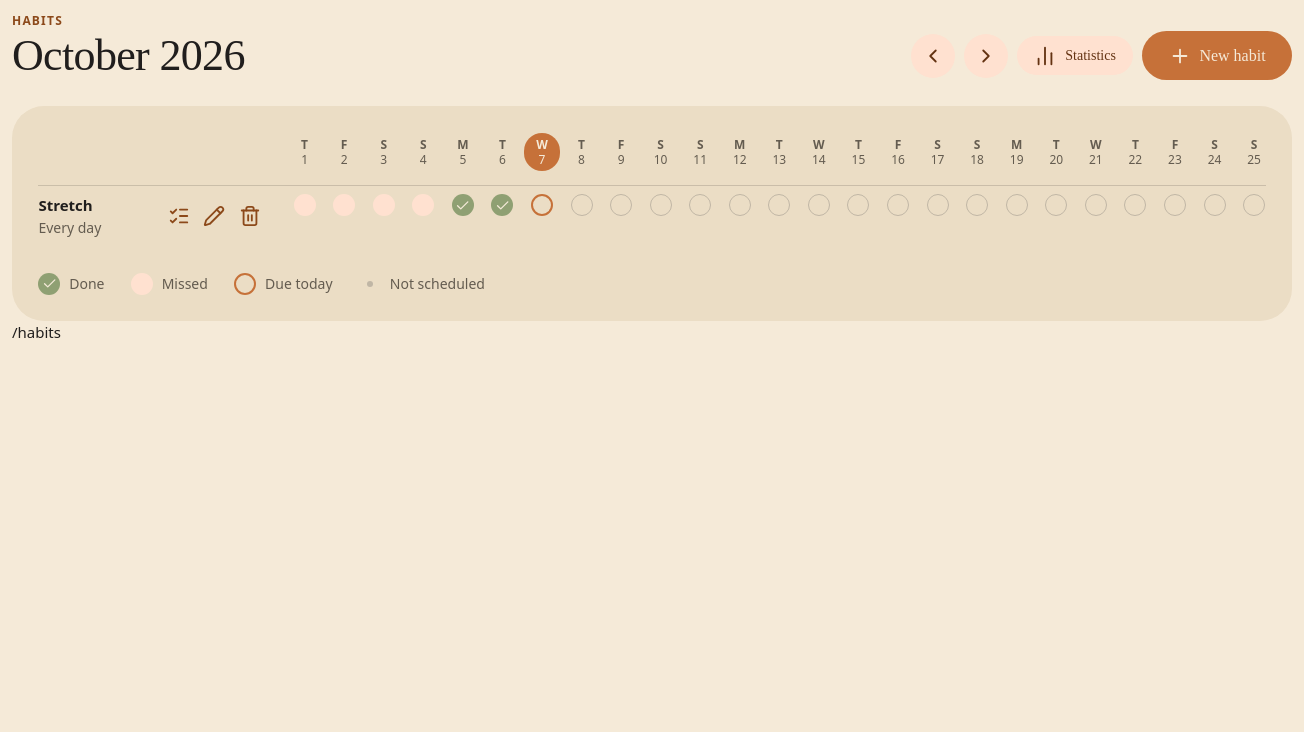
Test case: ticking a day › puts a refused day back even when the screen cannot ask the server what is true, and keeps the grid
Expected: the table is shown, [38,133,1266,246]
Click the button named "Stretch, Wed 7 Oct" at (542, 205), box [531,194,553,216]
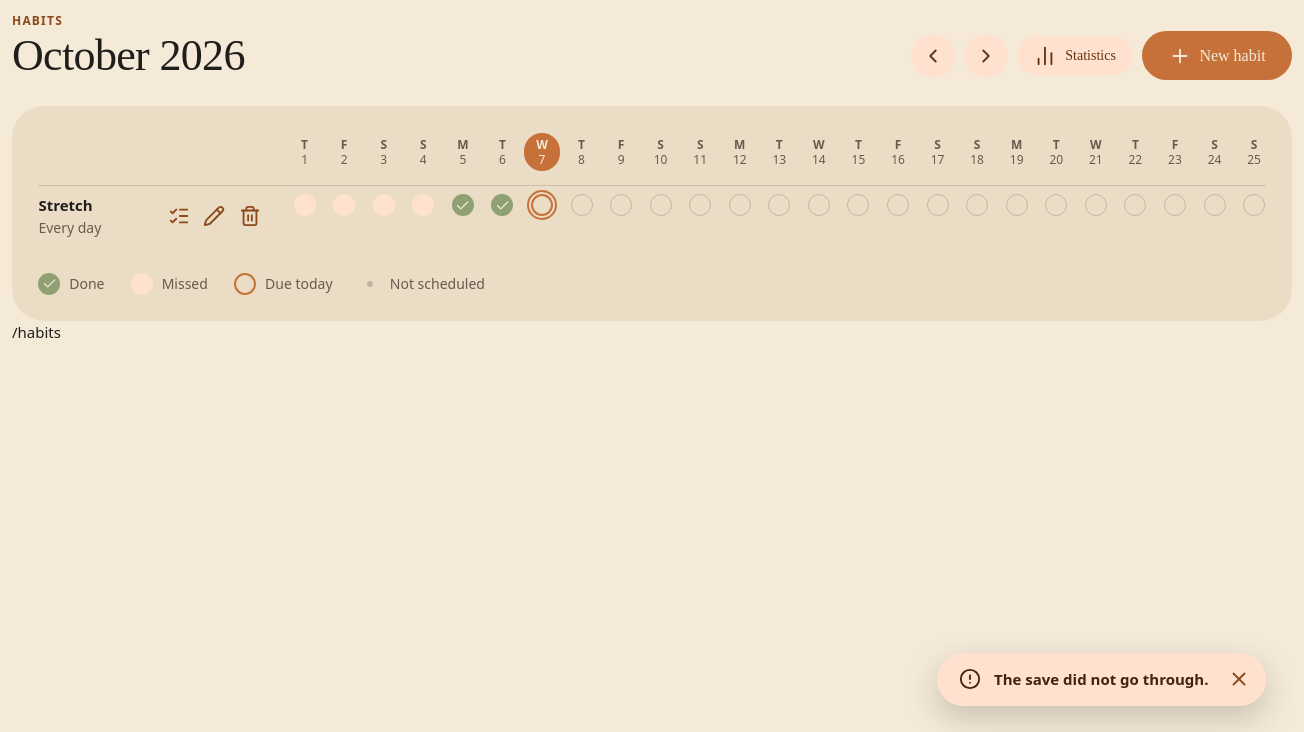
Now the message reads "The save did not go through.", box [994,669,1208,689]
